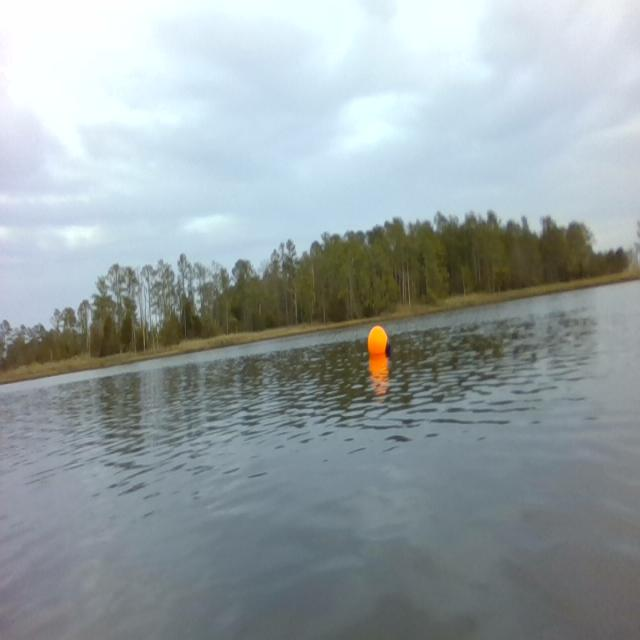Buoy: (365, 322, 394, 363)
